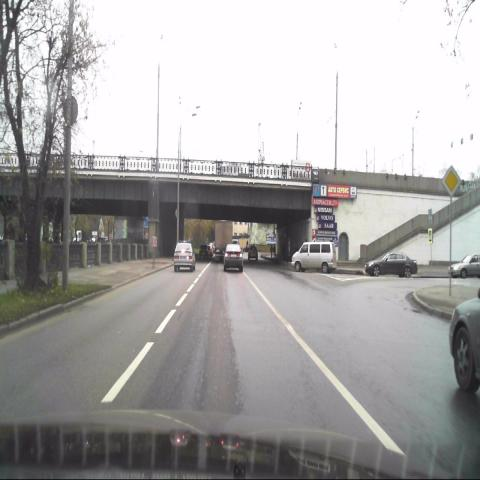2_1: (442, 164, 462, 198)
